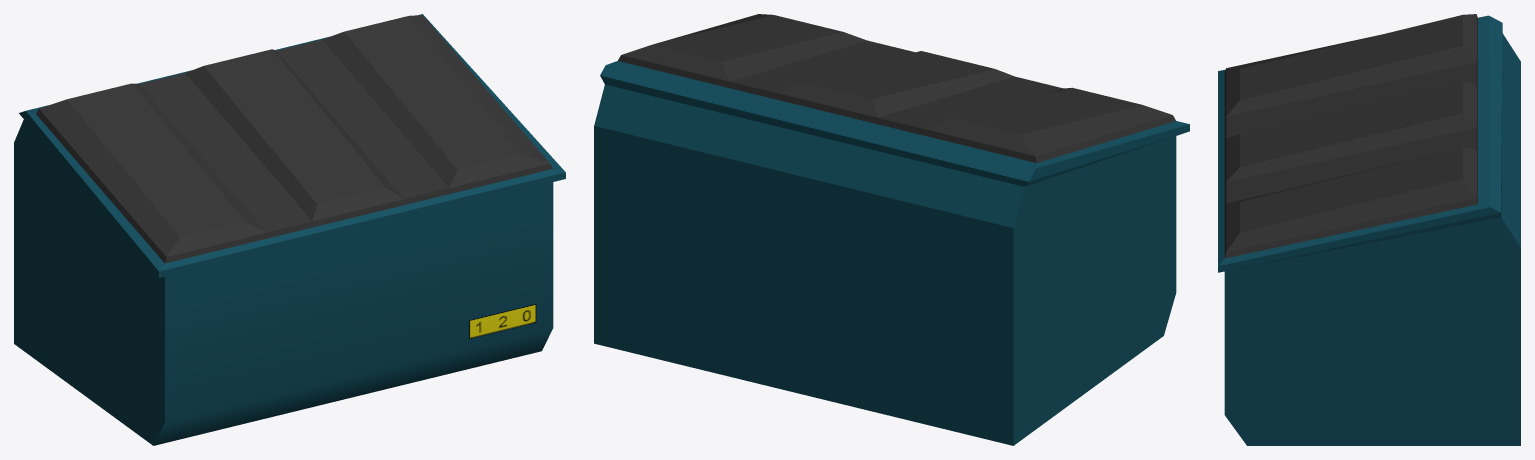
File: Basuredo(conFBX).fbx
The picture shows the model from 3 angles, left to right: view 1: azimuth 30°, elevation 25°; view 2: azimuth 150°, elevation 25°; view 3: azimuth 270°, elevation 25°; orthographic projection. The views are drawn at different scales.
Parts seen in each view (by area): view 1: pCube1; view 2: pCube1; view 3: pCube1.
Boxes of the visible parts, x1,y1,x2,y2 form: pCube1: [14, 14, 565, 445]; pCube1: [594, 14, 1189, 445]; pCube1: [1218, 14, 1520, 445].
Size of the model in its own units: 4.19 by 2.57 by 2.75.
1 material, 1 textured.
